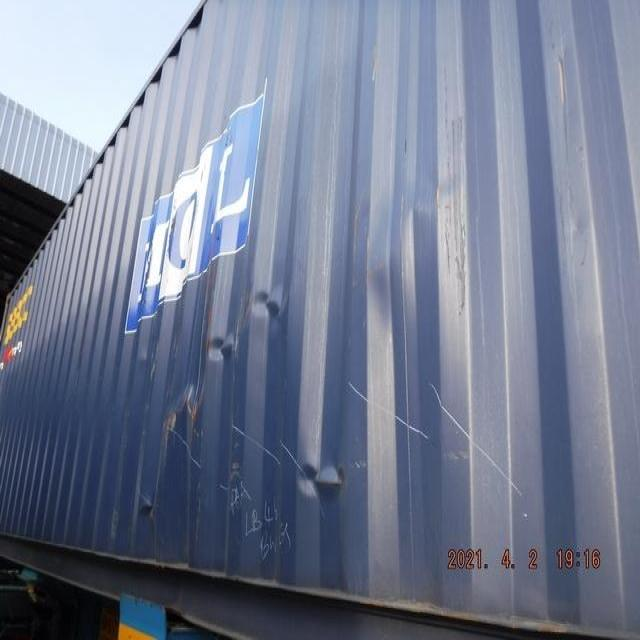dent: (361, 171, 469, 327), (136, 385, 204, 534), (201, 286, 283, 377), (290, 437, 356, 526), (562, 208, 597, 254)
